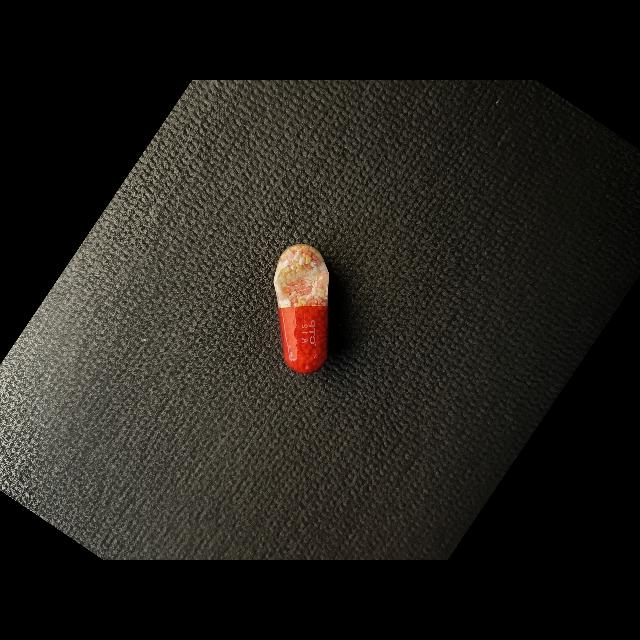Defective Capsule: (273, 244, 329, 373)
